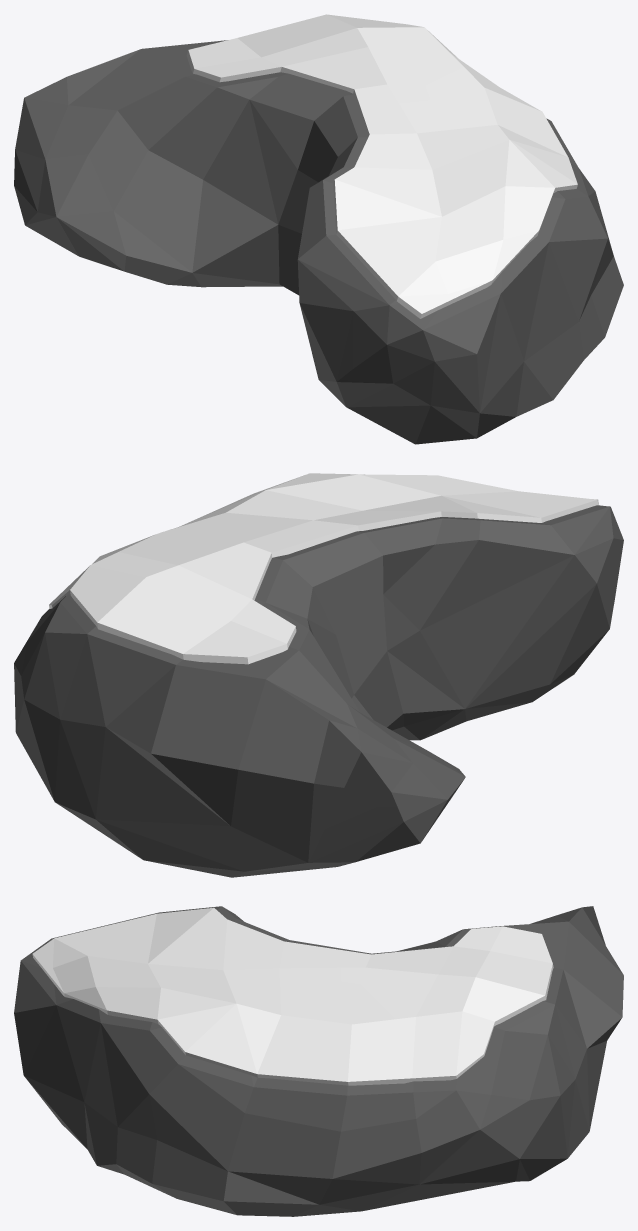
File: roca_nieve_1.fbx
3 views of the same model, one above another, from view 1: azimuth 30°, elevation 25°; view 2: azimuth 150°, elevation 25°; view 3: azimuth 270°, elevation 25° (orthographic). The views are drawn at different scales.
Visible parts, largest first — view 1: rocaNieve1:Mesh; view 2: rocaNieve1:Mesh; view 3: rocaNieve1:Mesh.
Part boxes in pixels (box(x1,y1,x2,y2)): rocaNieve1:Mesh: box(14, 14, 623, 444); rocaNieve1:Mesh: box(14, 473, 623, 877); rocaNieve1:Mesh: box(14, 906, 623, 1216).
Bounding box in the file's own units: 108 × 51.27 × 141.
1 material, 1 textured.
